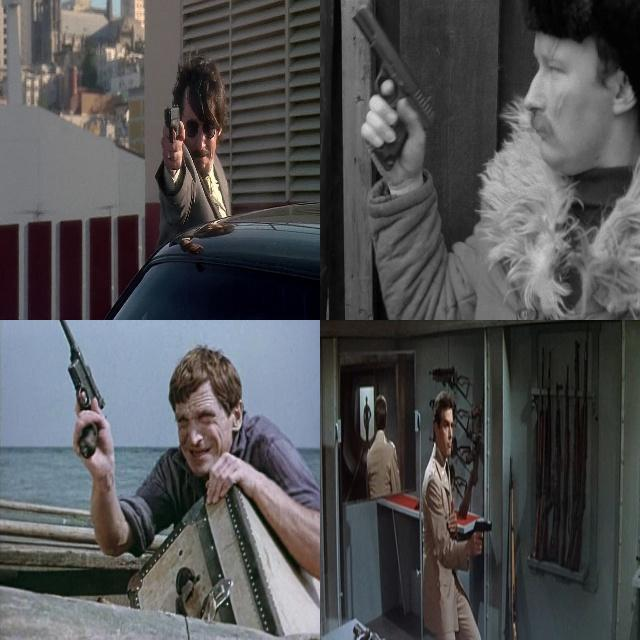gun-knife-thesis - v11 Yolov5 augmented: (340, 1, 444, 181), (56, 319, 112, 462), (161, 100, 184, 171), (469, 507, 493, 548)
